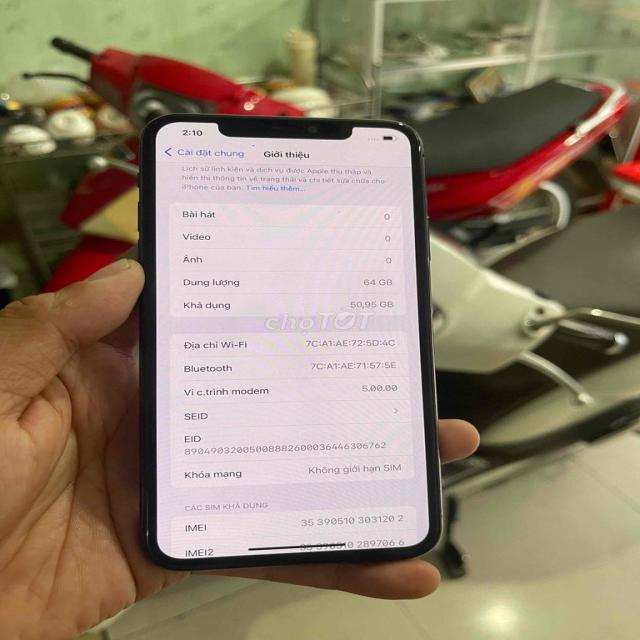gen_11: (135, 103, 456, 566)
